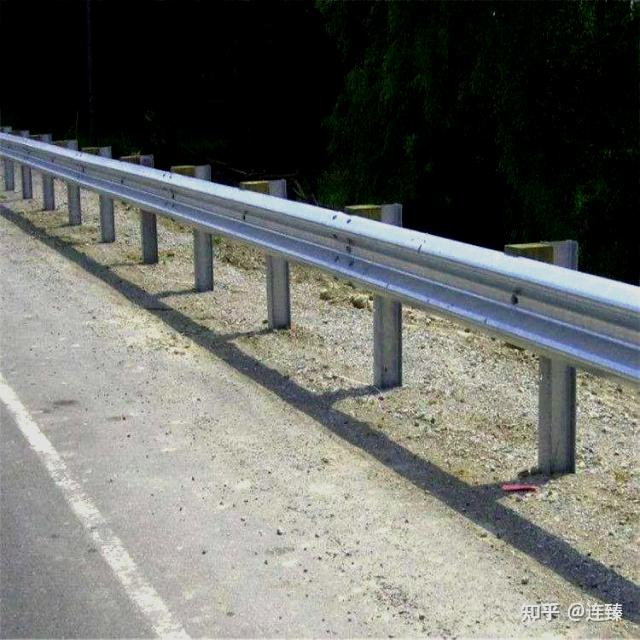Guard rail: (0, 133, 640, 383)
